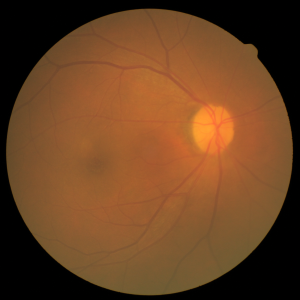cataract: (69, 68, 256, 191)
